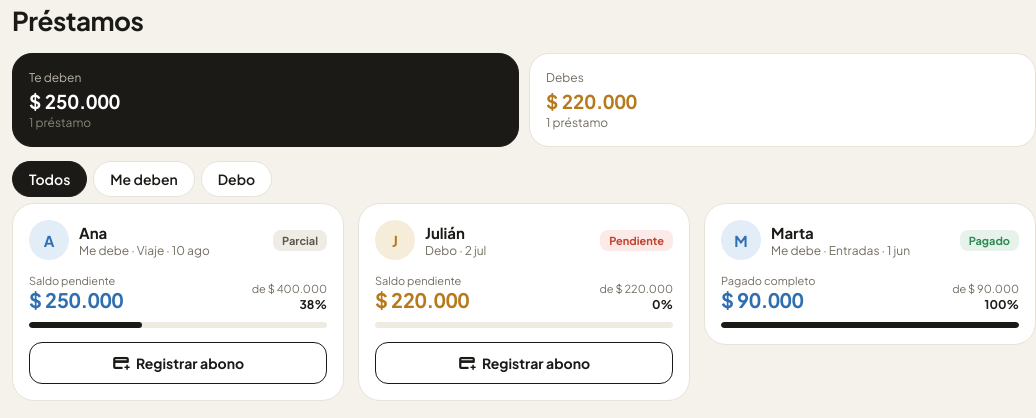
it: Préstamos › la pill de Debo deja fuera los que me deben
Expected: the text "Ana" is shown, [79,222,107,242]
Click the tab "Debo": point(236, 179) [201,161,272,197]
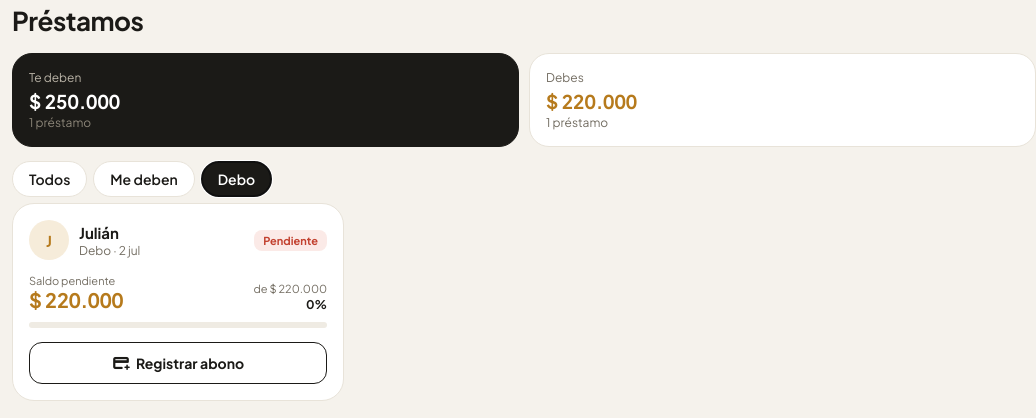
Expected: the text "Julián" is shown, [79,222,119,242]
Expected: the button "Ana" is gone
